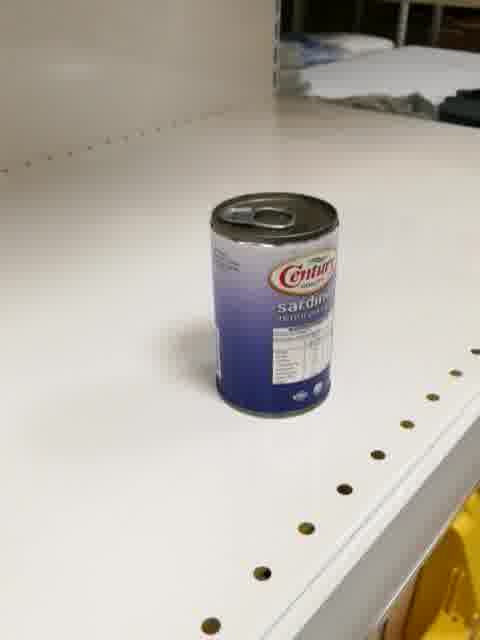sardine: (208, 190, 340, 421)
